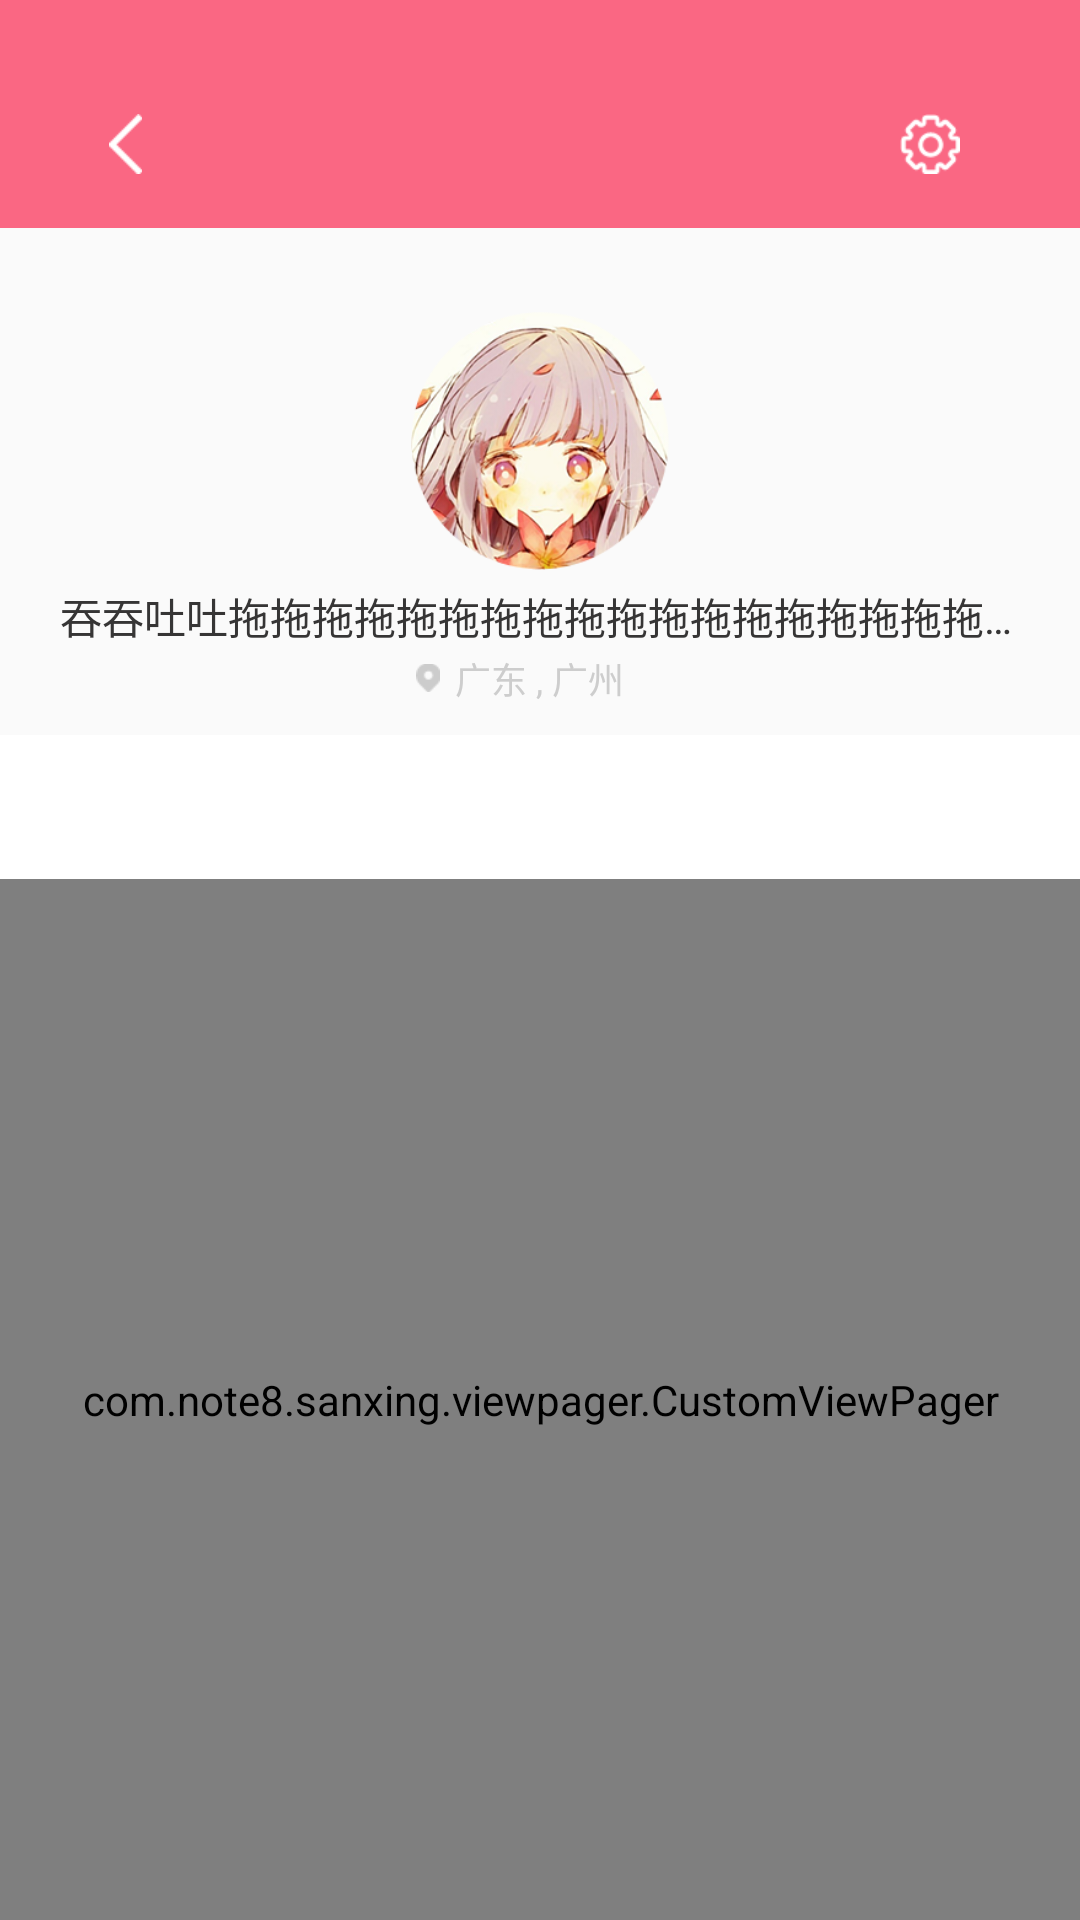

Screen size 1080×1920. Icon name, then its center in pixels as (x=x, y=y):
portrait me: (x=539, y=448)
return: (x=125, y=144)
set: (x=930, y=144)
